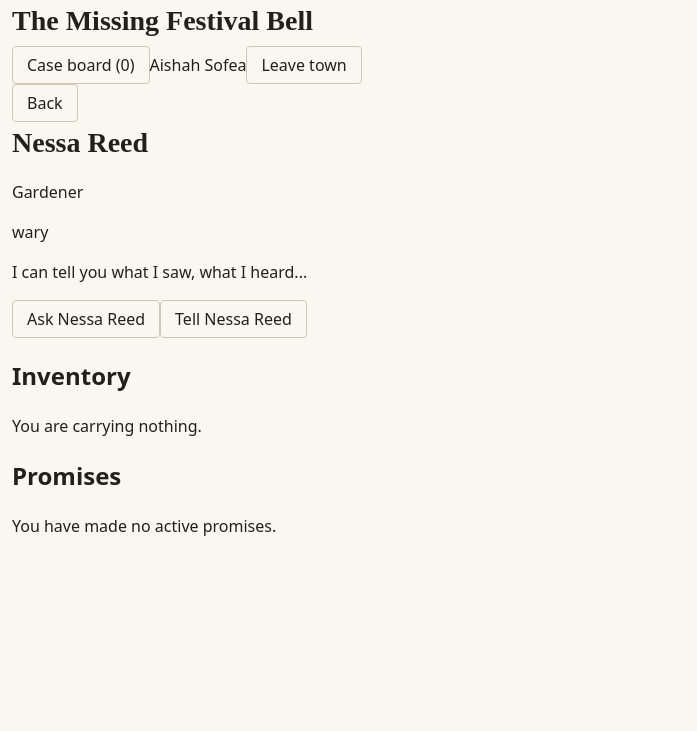
Test case: Encounter — Tell interpretation (P4-19) › returns to the composer with a notice on needs_revision, allocating no draft
This screenshot has width=697, height=731.
Click the button "Tell Nessa Reed": (233, 319) [160, 300, 307, 338]
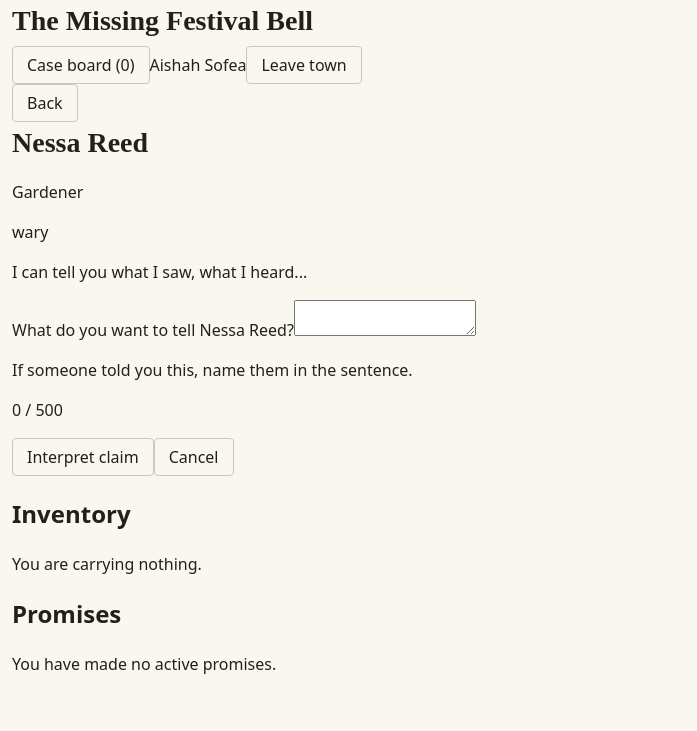
In the text box labelled "What do you want to tell Nessa Reed?": (385, 318) [294, 300, 476, 336], type "Too much at once."
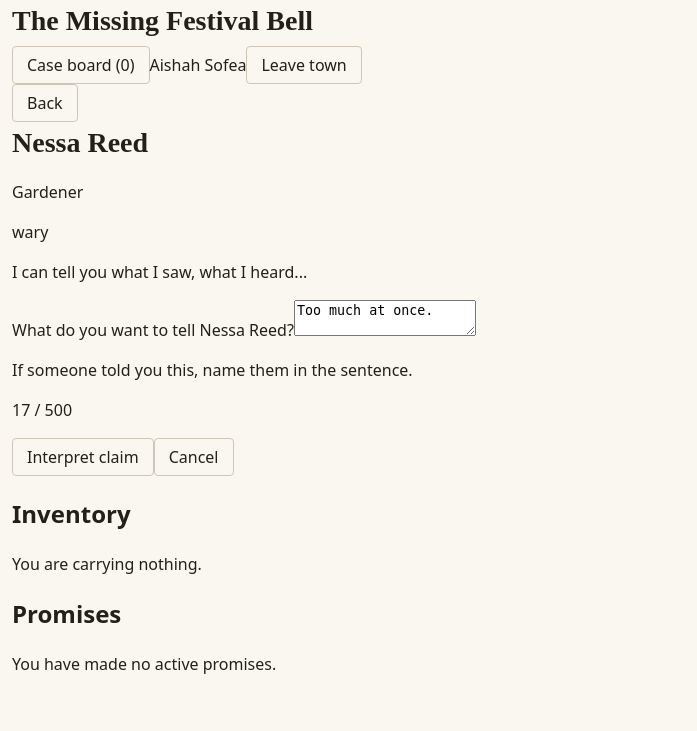
Click the button "Interpret claim": (83, 457) [12, 438, 154, 476]
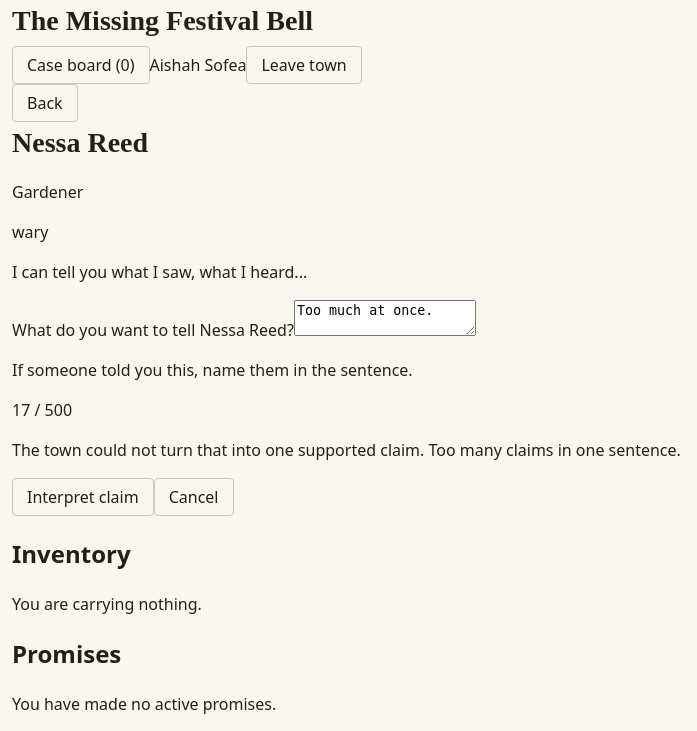
Now the text box labelled "What do you want to tell Nessa Reed?" holds "Too much at once.", box [294, 300, 476, 336]
Now the text "The town could not turn that into one supported claim. Too many claims in one sentence." is shown, box [12, 439, 681, 461]
